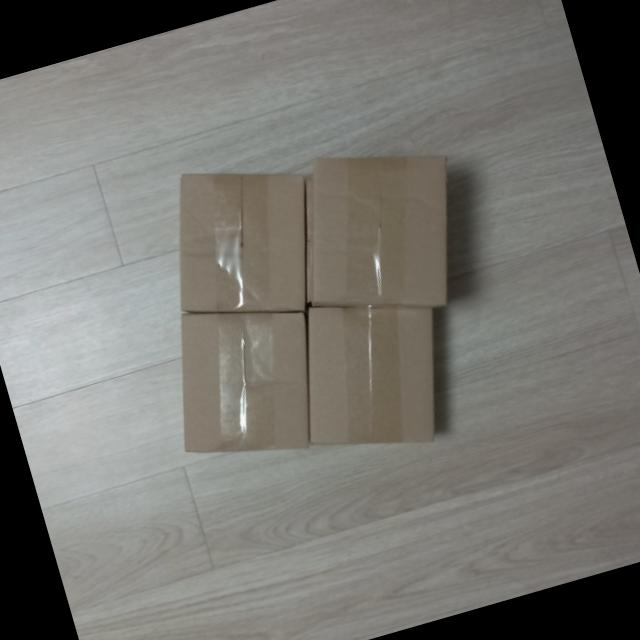box: (269, 116, 490, 344), (138, 133, 344, 348), (270, 268, 477, 480), (144, 278, 342, 486)
